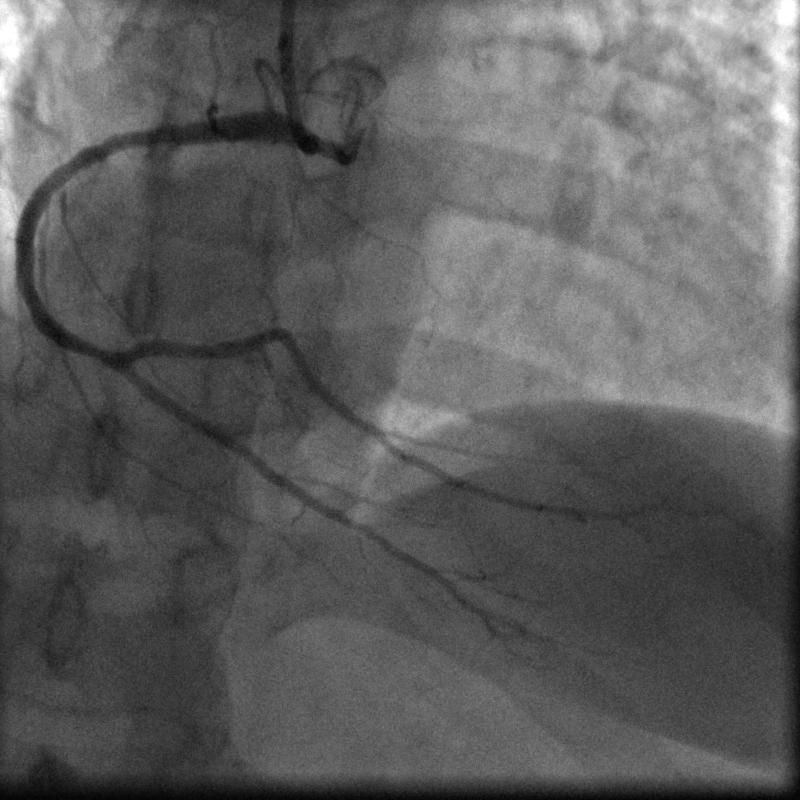Stenosis: (84, 337, 116, 372)
